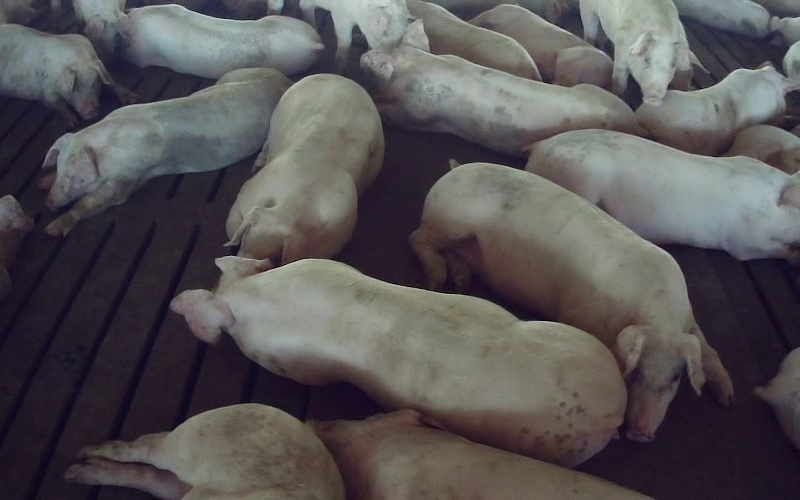pig: (171, 256, 624, 465), (410, 163, 732, 440), (39, 69, 290, 235), (360, 23, 639, 155), (527, 130, 799, 260), (313, 409, 650, 499), (226, 74, 383, 264), (65, 404, 344, 499), (636, 62, 799, 155), (122, 4, 323, 78), (471, 4, 612, 88), (580, 0, 692, 105), (407, 0, 541, 80)
